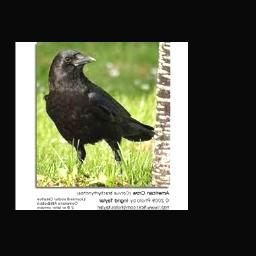Crow: (43, 48, 156, 187)
